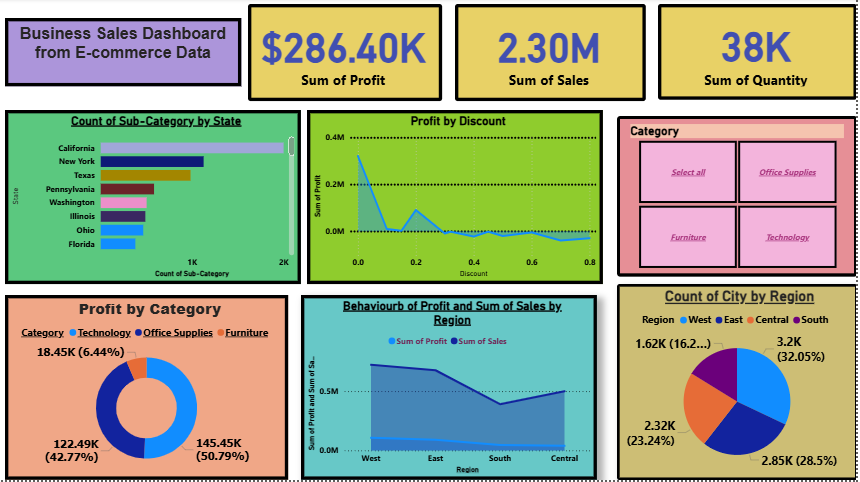

What the dashboard file says about the page in this screenshot:
{"tool":"powerbi","page":{"name":"Page 1","canvas":[1280,720],"ordinal":0},"visuals":[{"type":"card","fields":{"Values":["Sum(Orders.Profit)"]},"box":[370.5,9,289.8,144.9],"z":0},{"type":"slicer","fields":{"Values":["Orders.Category"]},"box":[921.7,176.3,358.5,240.5],"z":1000},{"type":"pieChart","fields":{"Category":["Orders.Region"],"Y":["CountNonNull(Orders.City)"]},"box":[921.7,427.2,358.5,292.8],"z":2000},{"type":"card","fields":{"Values":["Sum(Orders.Sales)"]},"box":[679.7,9,285.3,144.9],"z":3000},{"type":"barChart","fields":{"Category":["Orders.State"],"Y":["CountNonNull(Orders.Sub-Category)"]},"box":[7.5,167.3,442.2,259.9],"z":4000},{"type":"card","fields":{"Values":["Sum(Orders.Quantity)"]},"box":[982.9,9,297.3,143.4],"z":5000},{"type":"donutChart","title":"Profit by Category","fields":{"Category":["Orders.Category"],"Y":["Sum(Orders.Profit)"]},"box":[7.5,443.7,422.7,276.3],"z":6000},{"type":"areaChart","title":"Behaviourb of Profit and Sum of Sales by Region","fields":{"Category":["Orders.Region"],"Y":["Sum(Orders.Profit)","Sum(Orders.Sales)"]},"box":[449.6,443.7,442.2,276.3],"z":7000},{"type":"areaChart","title":"Profit by Discount","fields":{"Category":["Orders.Discount"],"Y":["Sum(Orders.Profit)"]},"box":[458.6,167.3,442.2,259.9],"z":8000},{"type":"textbox","box":[7.5,29.9,352.5,101.6],"z":9000}]}

Visuals, with their boxes in screenshot pixels (x1, y1, x2, y2), scaled from the page's 1280x720 canvas onto the 860x482 screenshot:
card - Sum(Orders.Profit): (249, 6, 444, 103)
slicer - Orders.Category: (619, 118, 859, 279)
pieChart - Orders.Region x CountNonNull(Orders.City): (619, 286, 859, 481)
card - Sum(Orders.Sales): (457, 6, 648, 103)
barChart - Orders.State x CountNonNull(Orders.Sub-Category): (5, 112, 302, 286)
card - Sum(Orders.Quantity): (660, 6, 859, 102)
"Profit by Category" donutChart: (5, 297, 289, 481)
"Behaviourb of Profit and Sum of Sales by Region" areaChart: (302, 297, 599, 481)
"Profit by Discount" areaChart: (308, 112, 605, 286)
textbox: (5, 20, 242, 88)
